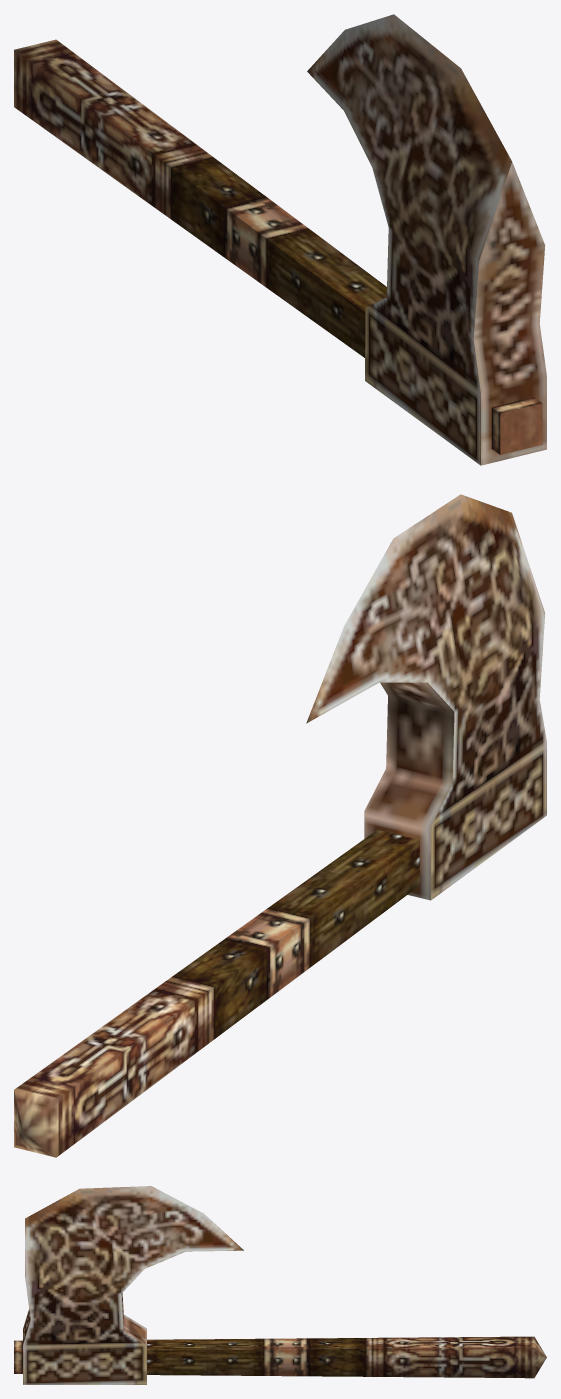
The picture shows the model from 3 angles, top to bottom: view 1: azimuth 30°, elevation 25°; view 2: azimuth 150°, elevation 25°; view 3: azimuth 270°, elevation 25°; orthographic projection. The views are drawn at different scales.
Parts seen in each view (by area): view 1: wa4-col; view 2: wa4-col; view 3: wa4-col.
Boxes of the visible parts, left/top/right/bottom form: wa4-col: left=14, top=14, right=546, bottom=465; wa4-col: left=14, top=494, right=546, bottom=1157; wa4-col: left=14, top=1186, right=546, bottom=1384.
Size of the model in its own units: 0.0539 by 0.2768 by 0.7026.
1 material, 1 textured.
